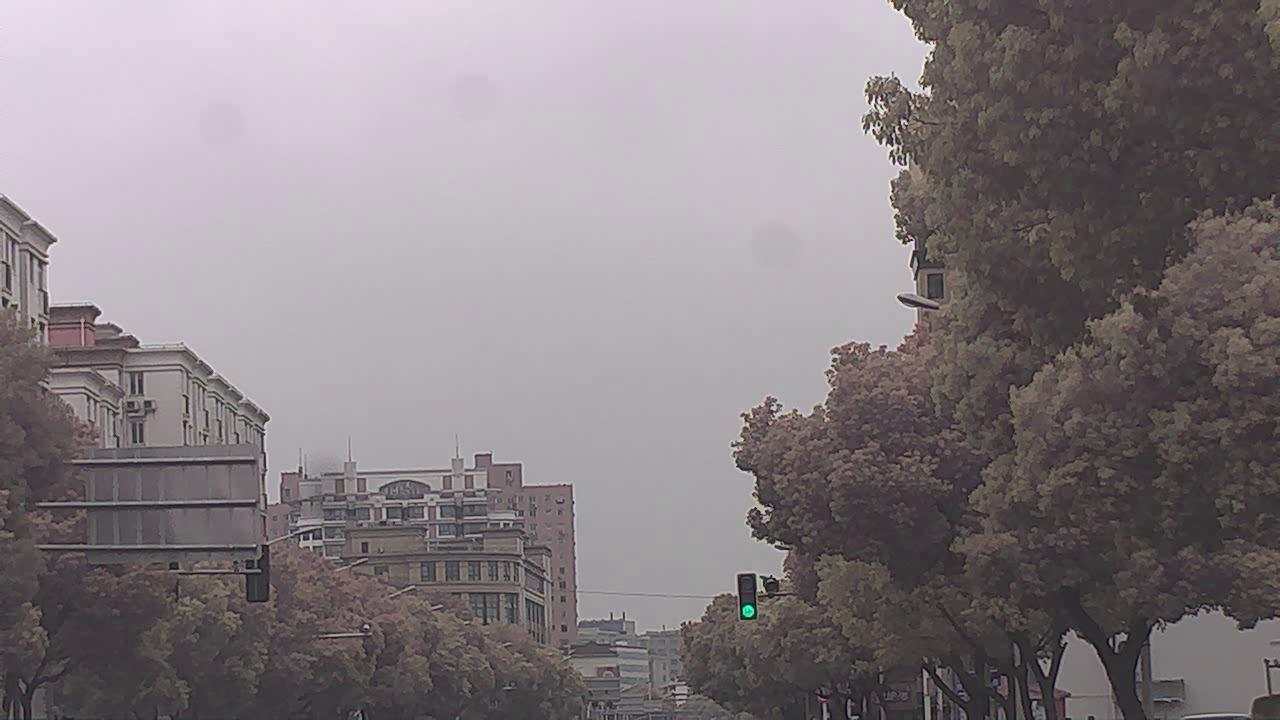traffic_light: (735, 572, 761, 621)
